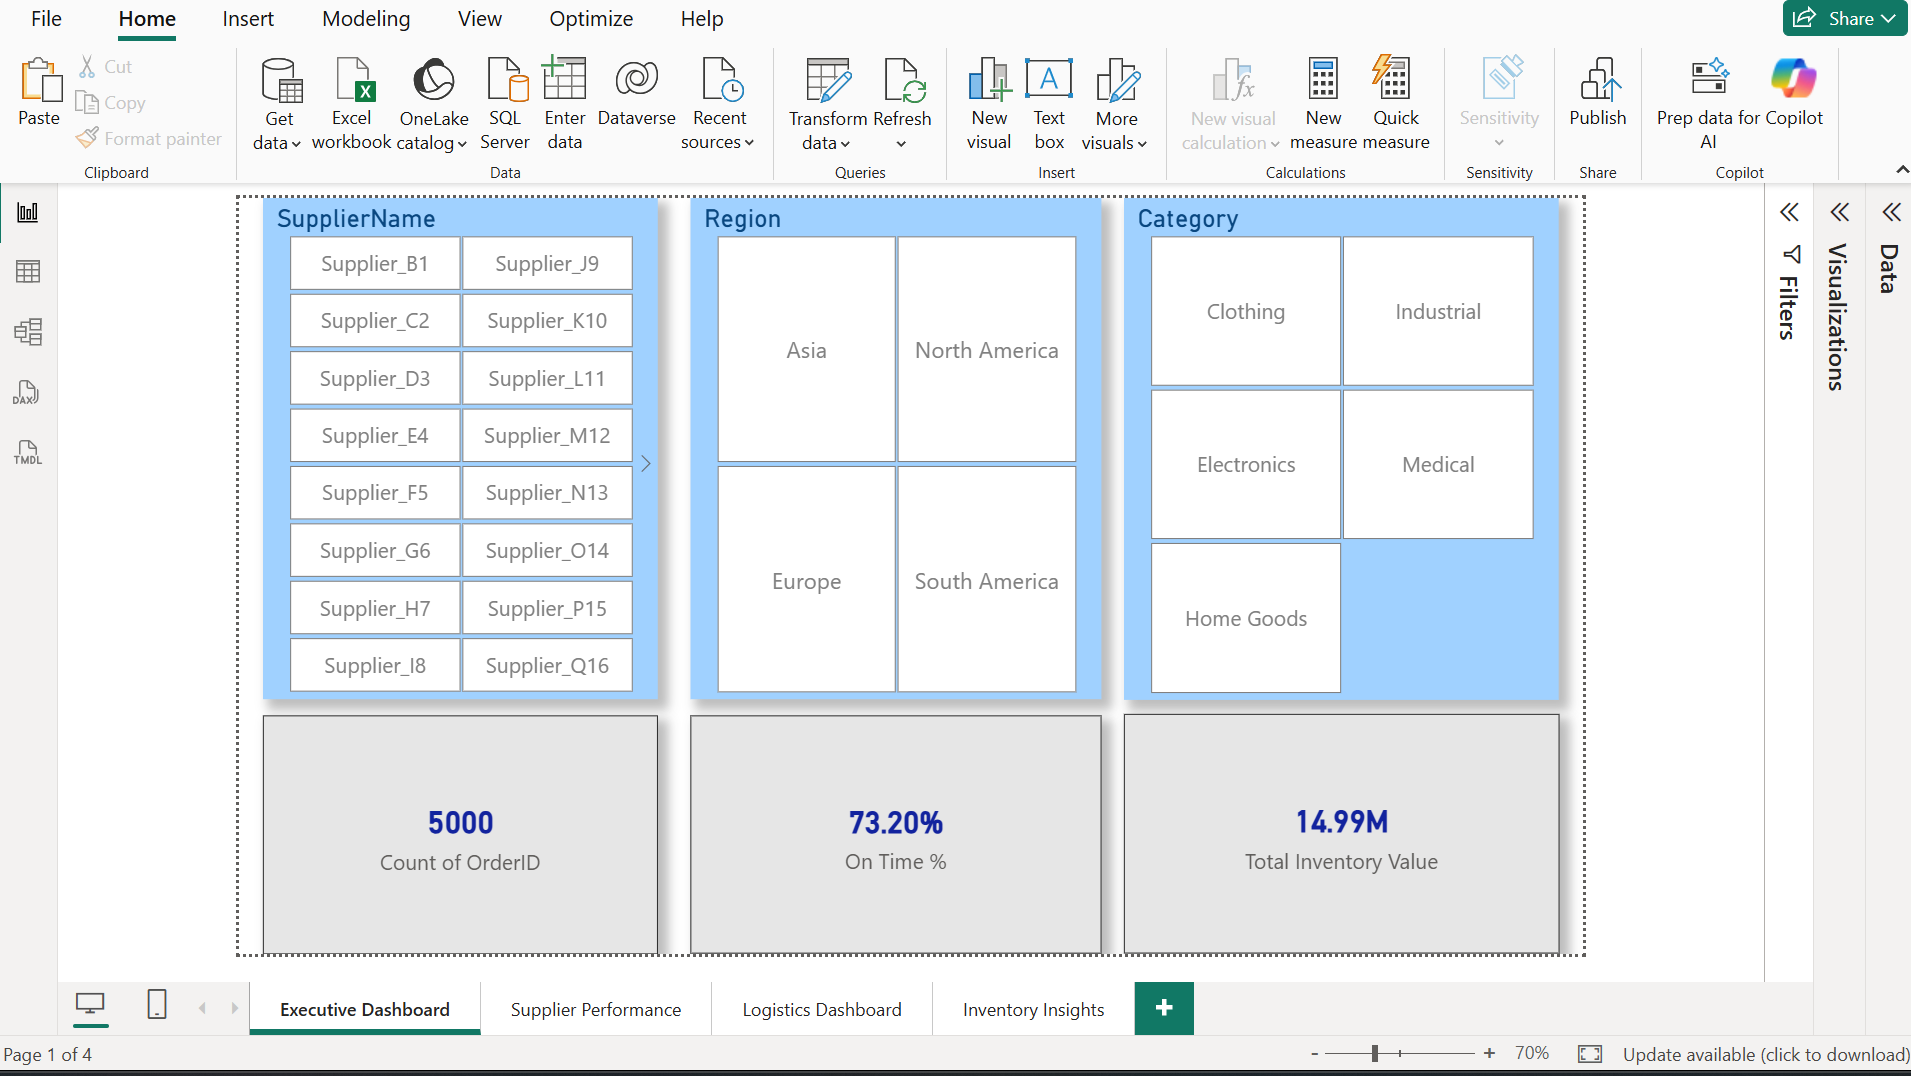

Layout of this report page (visuals, bound fields, positions):
{"tool":"powerbi","page":{"name":"Executive Dashboard","canvas":[1280,720],"ordinal":0},"visuals":[{"type":"slicer","fields":{"Values":["dim_suppliers.Region"]},"box":[429.5,0,391.1,477.6],"z":0},{"type":"slicer","fields":{"Values":["dim_suppliers.SupplierName"]},"box":[23.3,0,376,477.6],"z":1000},{"type":"slicer","fields":{"Values":["dim_products.Category"]},"box":[842.8,0,413.9,478.1],"z":2000},{"type":"card","fields":{"Values":["Count(fact_orders.OrderID)"]},"box":[22.9,492.9,375.7,227.1],"z":3000},{"type":"card","fields":{"Values":["fact_orders.On Time %"]},"box":[429.5,492.7,391.1,226.4],"z":4000},{"type":"card","fields":{"Values":["fact_inventory.Total Inventory Value"]},"box":[842.6,491.3,414.4,227.8],"z":5000}]}

Visuals, with their boxes on the page's 1280x720 design canvas (x1, y1, x2, y2). These are canvas units, not pixel positions in the 1911x1076 screenshot, which may show the page scaled, cropped or inside an application window:
slicer - dim_suppliers.Region: region(430, 0, 821, 478)
slicer - dim_suppliers.SupplierName: region(23, 0, 399, 478)
slicer - dim_products.Category: region(843, 0, 1257, 478)
card - Count(fact_orders.OrderID): region(23, 493, 399, 720)
card - fact_orders.On Time %: region(430, 493, 821, 719)
card - fact_inventory.Total Inventory Value: region(843, 491, 1257, 719)
